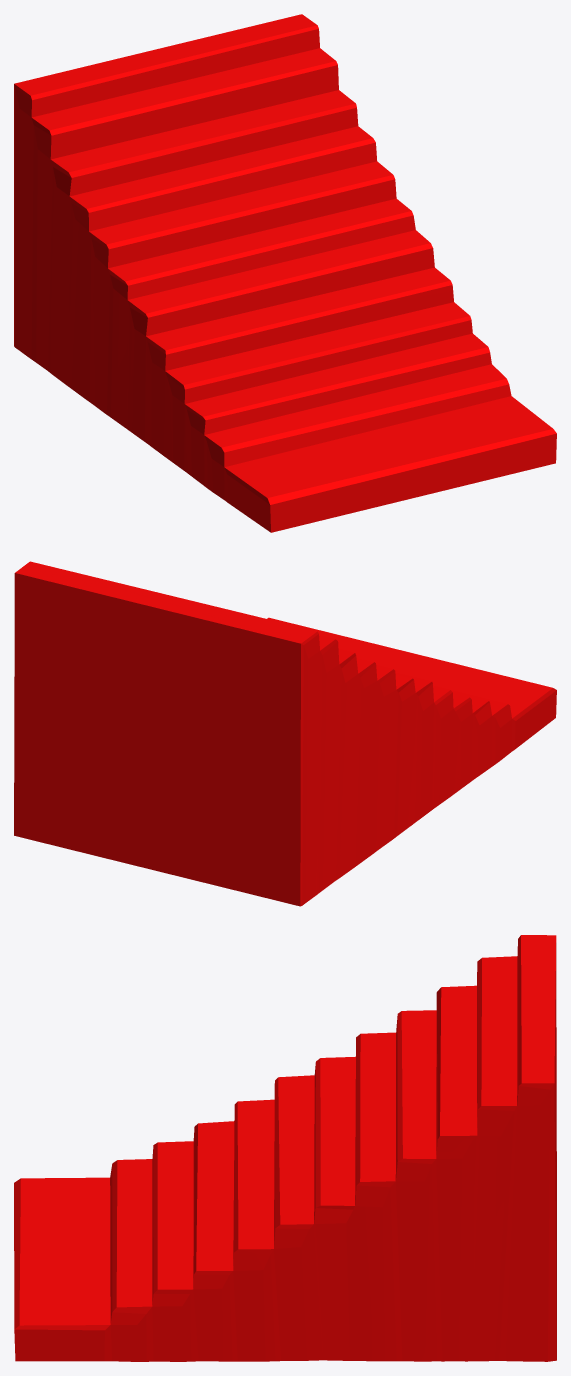
File: LowPoly_StairsEntree.fbx
The picture shows the model from 3 angles, top to bottom: view 1: azimuth 30°, elevation 25°; view 2: azimuth 150°, elevation 25°; view 3: azimuth 270°, elevation 25°; orthographic projection. The views are drawn at different scales.
Visible parts, largest first — view 1: LowPoly_StairsEntree; view 2: LowPoly_StairsEntree; view 3: LowPoly_StairsEntree.
Boxes of the visible parts, box(x1,y1,x2,y2) form: LowPoly_StairsEntree: box(14, 14, 556, 532); LowPoly_StairsEntree: box(14, 561, 556, 906); LowPoly_StairsEntree: box(14, 935, 556, 1361).
Size of the model in its own units: 2809 by 2453 by 4323.
